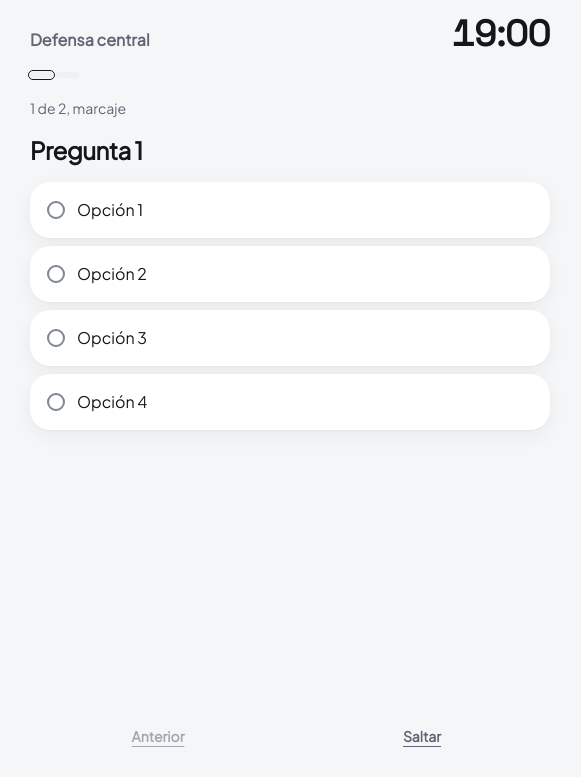
Scenario: examen de conocimiento › responder guarda cada respuesta y avanza; la revisión deja entregar y muestra el resultado
The image size is (581, 777).
Expected: the text "19:00" is shown, [452,16,550,52]
Expected: the text "1 de 2, marcaje" is shown, [30,99,126,117]
What coordinates should you click on to do the following:
click the button "Opción 2"
I would click on:
 (112, 274)
Its box is [30,246,550,302].
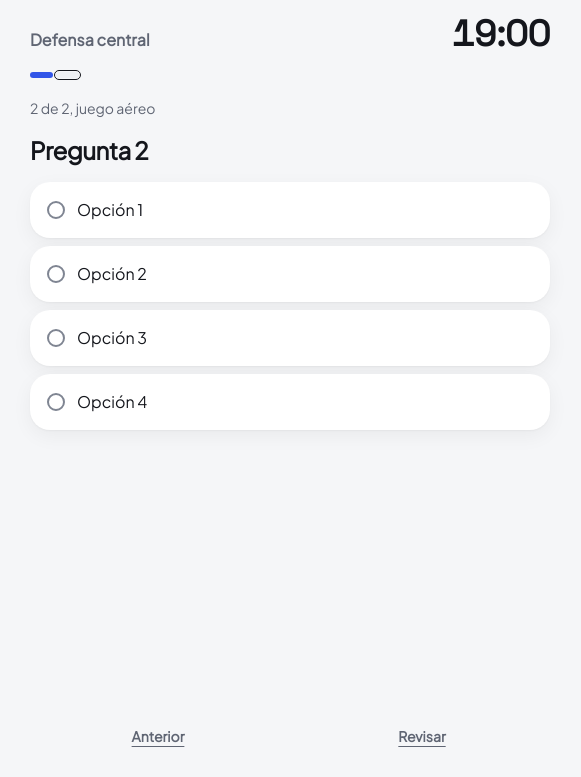
Result: the heading "Pregunta 2" is shown at [30,135,148,165]
// Se la salta: en la revisión queda pendiente.
What coordinates should you click on to do the following:
click the button "Revisar"
I would click on:
 (422, 736)
Its box is [294,712,550,760].
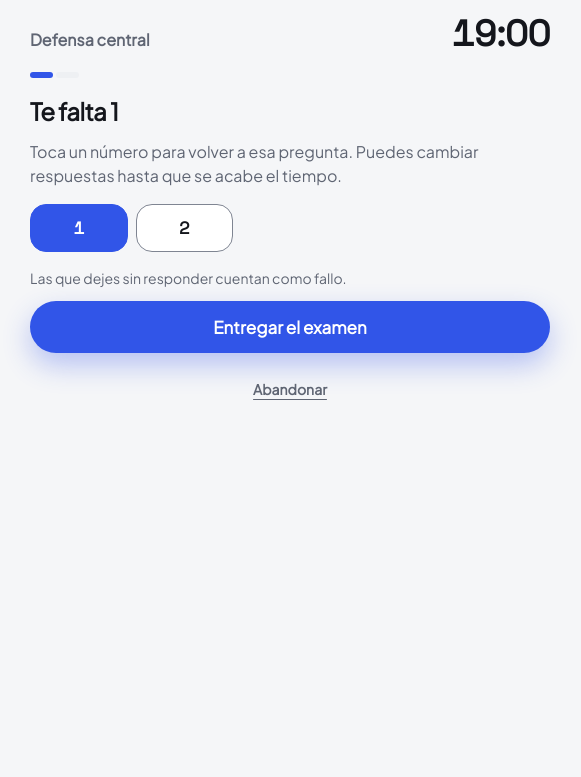
Result: the heading "Te falta 1" is shown at [30,96,118,126]
Result: the button named "Pregunta 1, respondida" is shown at [30,204,128,252]
Result: the text "Las que dejes sin responder cuentan como fallo." is shown at [30,269,347,287]
What coordinates should you click on to do the following:
click the button "Entregar el examen"
I would click on:
 (290, 327)
Its box is [30,301,550,353].
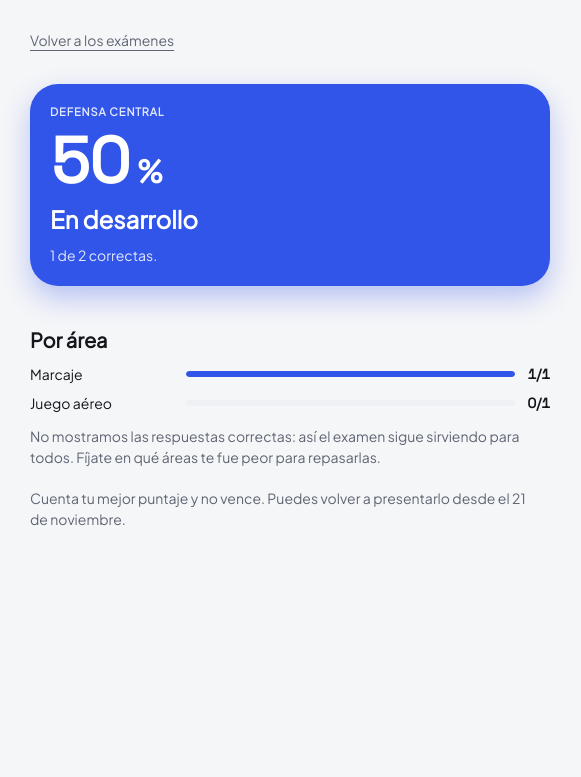
Result: the heading "50 %" is shown at [50,120,162,202]
Result: the text "En desarrollo" is shown at [50,204,198,234]
Result: the text "desde el 21 de noviembre" is shown at [30,488,550,530]
